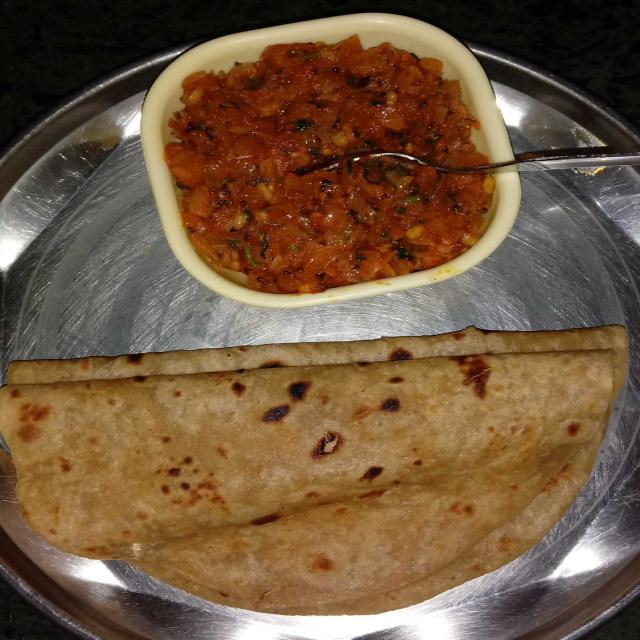chapathi: (0, 318, 640, 618)
